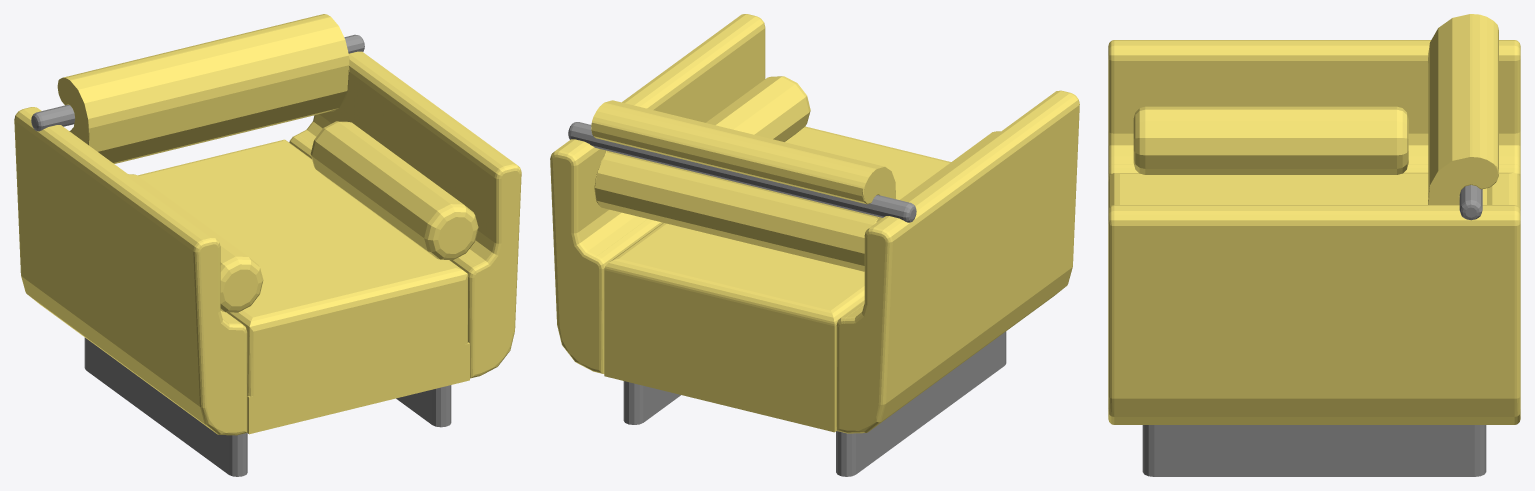
Rendered from smallyellowsofa.glb.
3 views of the same model, side by side, from view 1: azimuth 30°, elevation 25°; view 2: azimuth 150°, elevation 25°; view 3: azimuth 270°, elevation 25° (orthographic). The views are drawn at different scales.
Parts seen in each view (by area): view 1: Node; view 2: Node; view 3: Node.
Boxes of the visible parts, box(x1,y1,x2,y2) form: Node: box(14, 14, 521, 476); Node: box(550, 14, 1079, 476); Node: box(1108, 14, 1520, 476).
Bounding box in the file's own units: 37.12 × 32 × 36.
